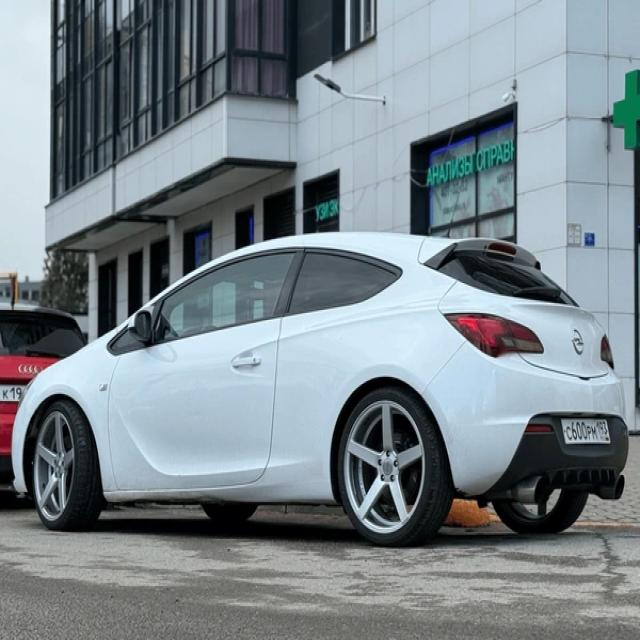opel: (571, 325, 585, 358)
